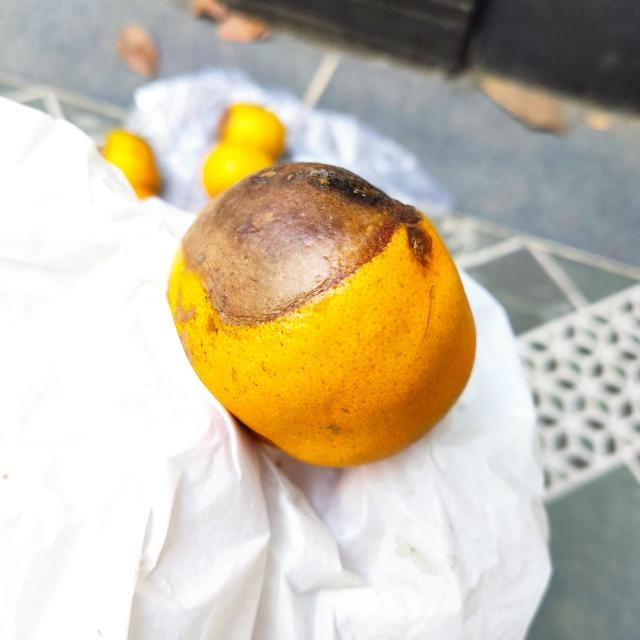agrume: (166, 159, 477, 470)
